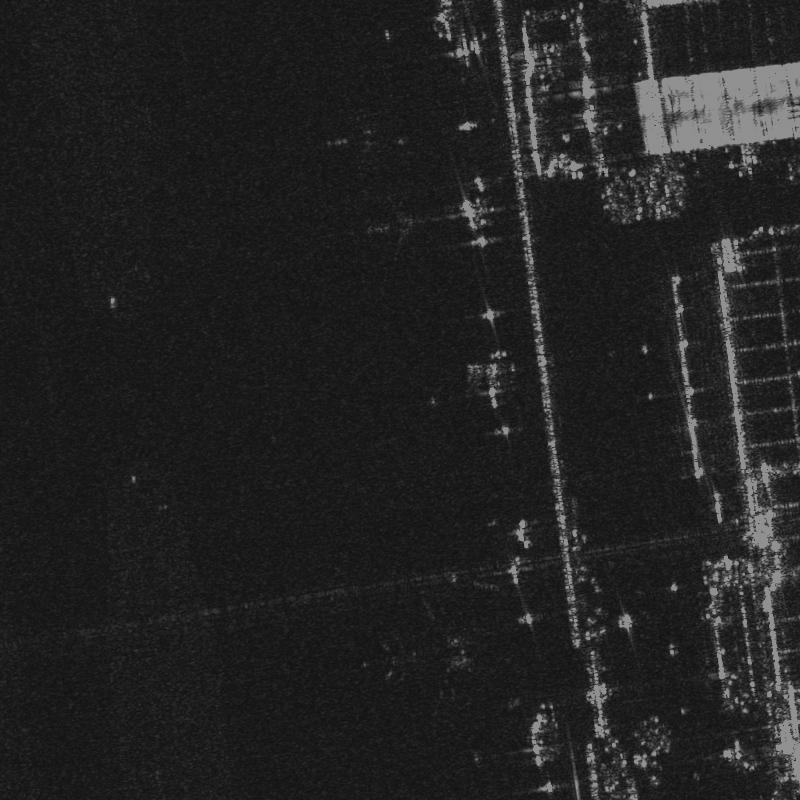A220: (363, 189, 429, 262)
Boeing787: (362, 602, 491, 711)
